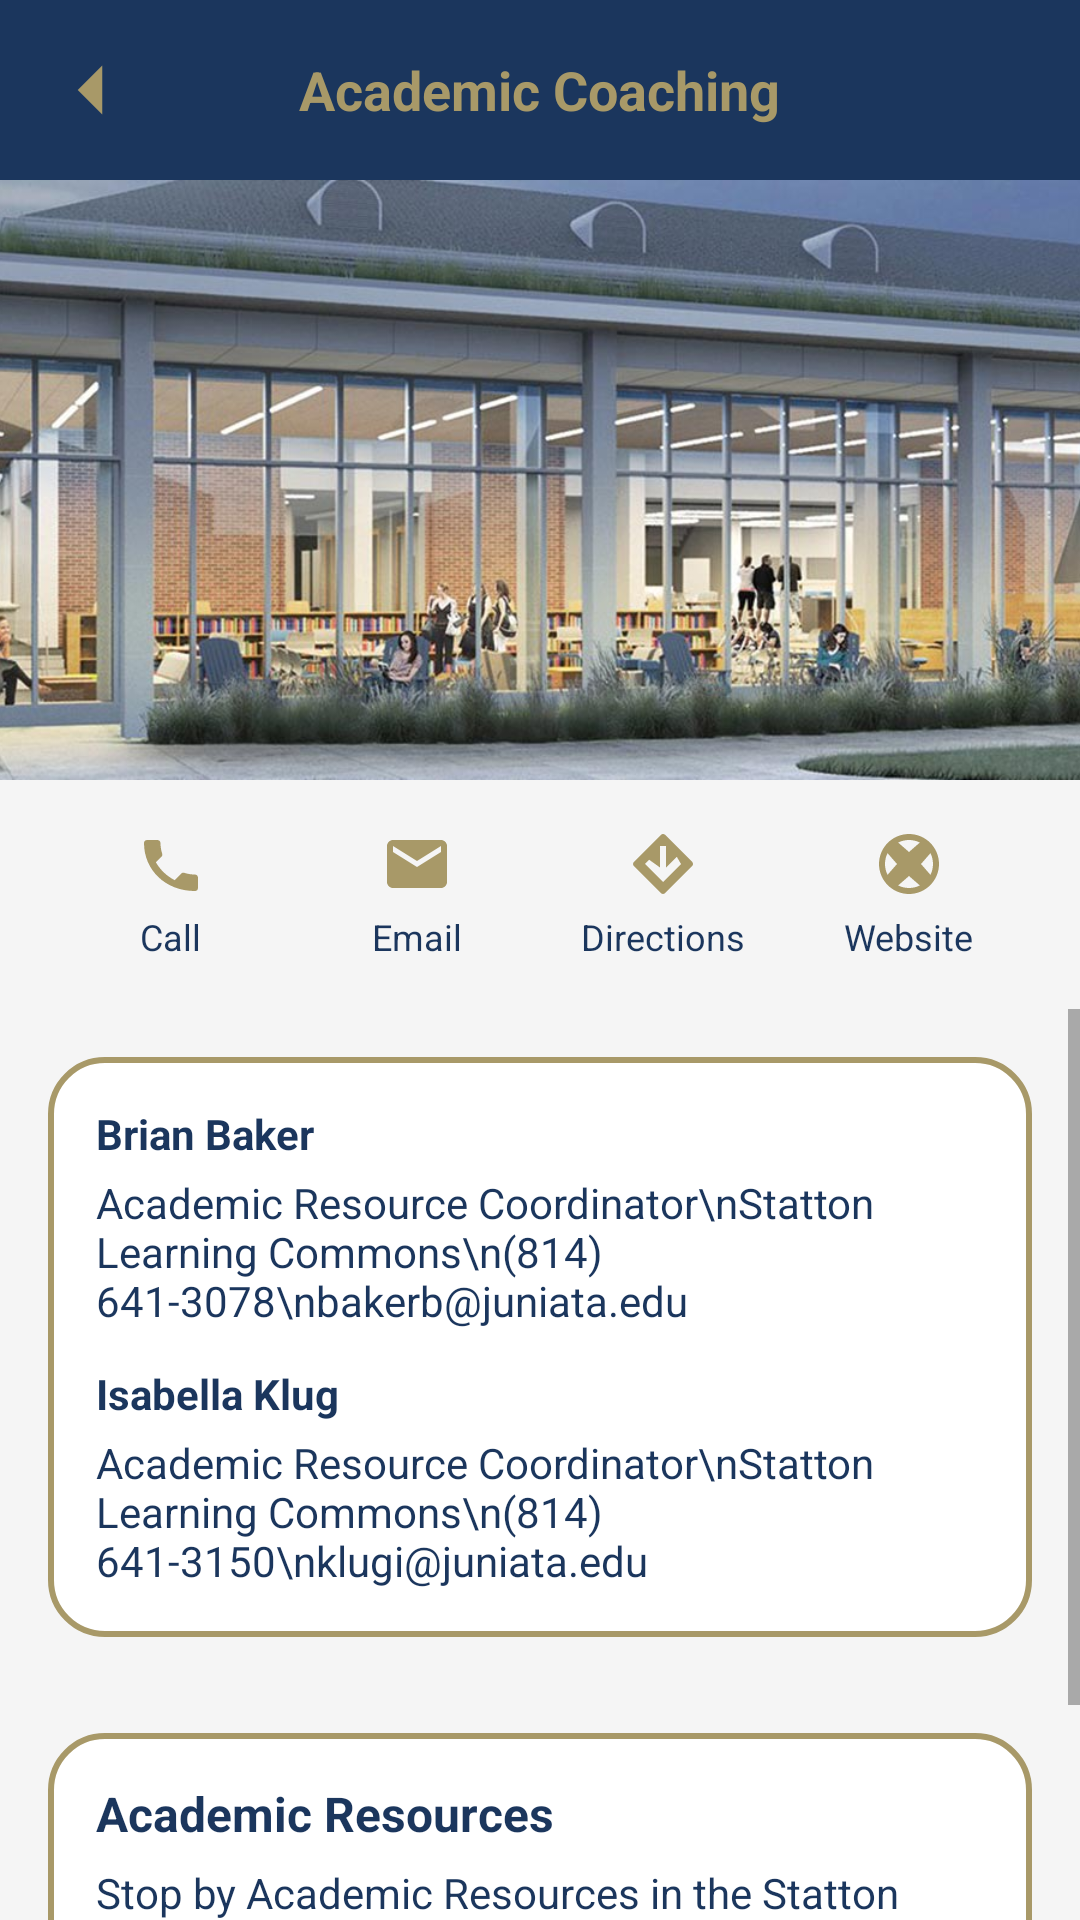

Named icons in this screenshot (1080 x 1920) and their bounding boxes, (x1, y1, x2, y2):
back: (78, 66, 103, 114)
